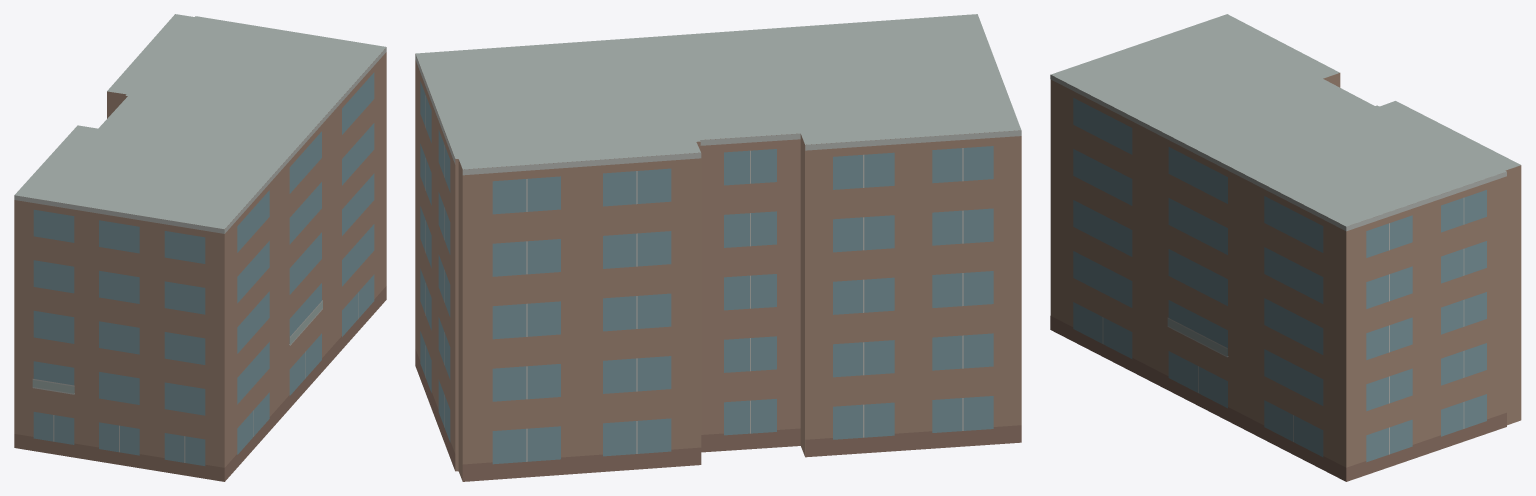
File: survey-upis-32740701.glb
3 renders of one model, left to right at view 1: azimuth 30°, elevation 25°; view 2: azimuth 150°, elevation 25°; view 3: azimuth 270°, elevation 25°, orthographic. The views are drawn at different scales.
Parts seen in each view (by area): view 1: survey-upis-32740701.tmp; view 2: survey-upis-32740701.tmp; view 3: survey-upis-32740701.tmp.
Part boxes in pixels (x1,y1,x2,y2): survey-upis-32740701.tmp: [14, 14, 386, 481]; survey-upis-32740701.tmp: [415, 14, 1021, 481]; survey-upis-32740701.tmp: [1050, 14, 1521, 481].
Size of the model in its own units: 23.59 by 13.2 by 22.08.
